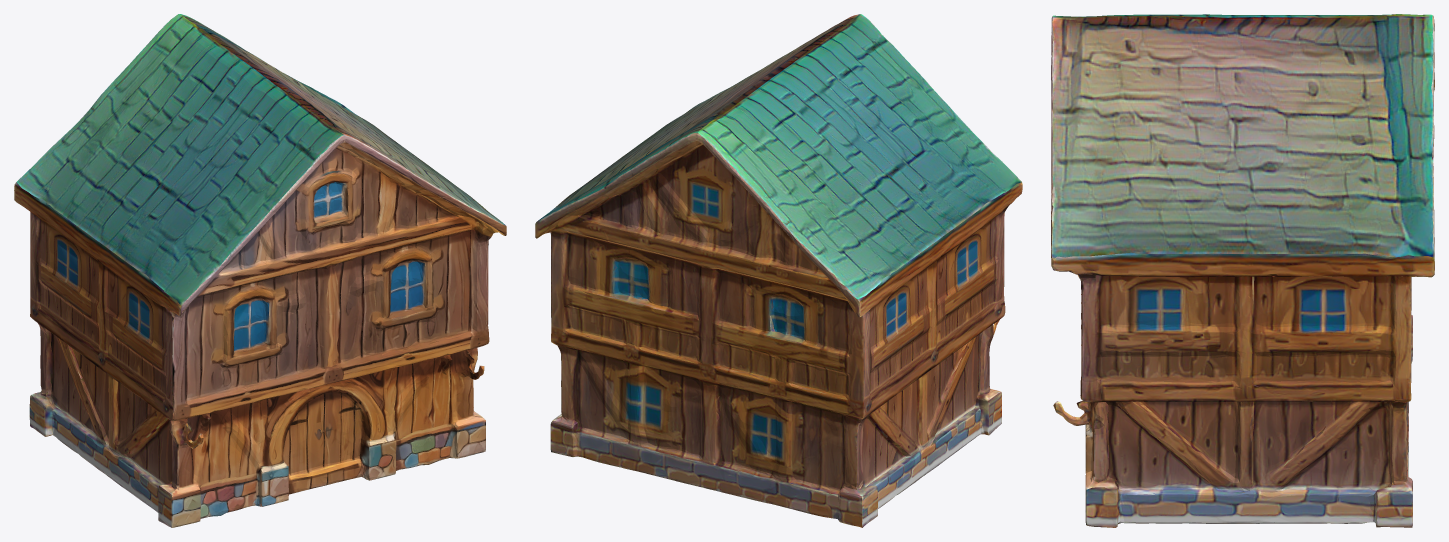
Rendered from Medieval_House.glb.
The picture shows the model from 3 angles, left to right: view 1: azimuth 30°, elevation 25°; view 2: azimuth 150°, elevation 25°; view 3: azimuth 270°, elevation 25°; orthographic projection. The views are drawn at different scales.
Bounding box in the file's own units: 0.9272 × 1 × 0.8153.
Materials: 1 (1 with a texture image).
